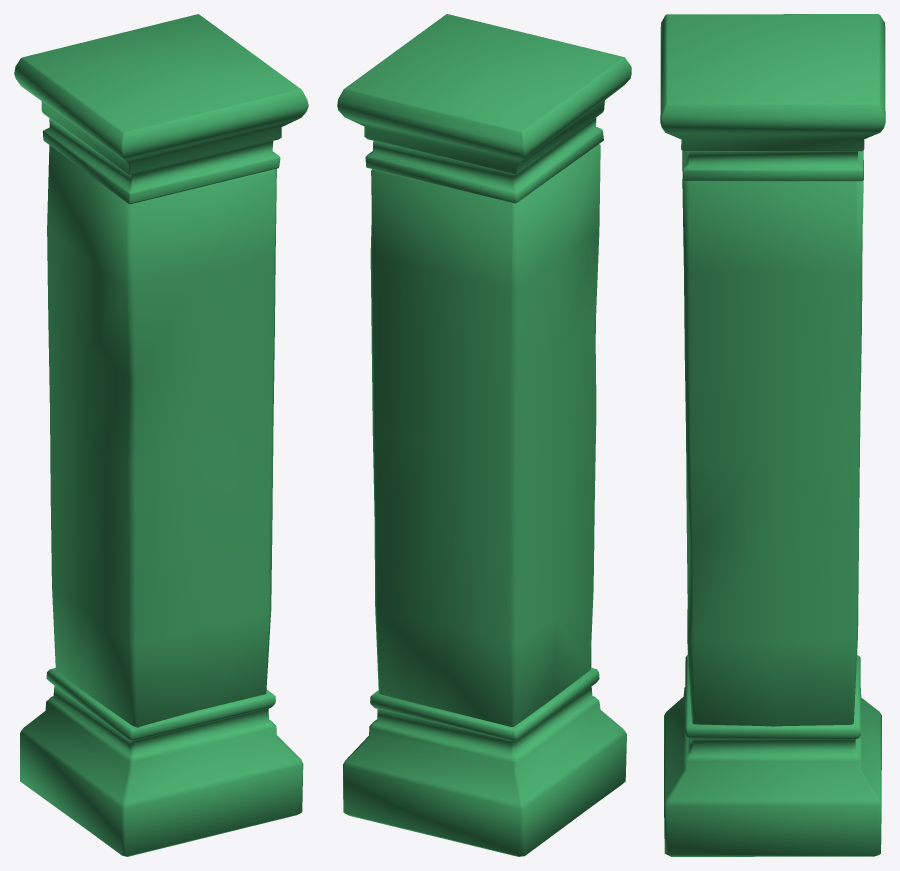
The model's file is SM_columnSimple_low.fbx.
3 views of the same model, side by side, from view 1: azimuth 30°, elevation 25°; view 2: azimuth 150°, elevation 25°; view 3: azimuth 270°, elevation 25° (orthographic). The views are drawn at different scales.
Visible parts, largest first — view 1: SM_columnSimple_low; view 2: SM_columnSimple_low; view 3: SM_columnSimple_low.
Part boxes in pixels (x1,y1,x2,y2): SM_columnSimple_low: [14, 14, 308, 856]; SM_columnSimple_low: [337, 14, 631, 856]; SM_columnSimple_low: [660, 14, 885, 856].
Bounding box in the file's own units: 80.4 × 297 × 80.36.
